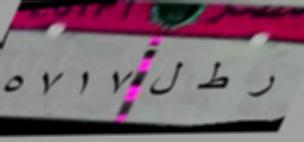1: (76, 66, 94, 99)
5: (0, 70, 26, 98)
7: (109, 64, 134, 97), (40, 68, 64, 100)
Taa: (196, 59, 231, 96)
laam: (150, 57, 182, 101)
raa: (243, 71, 278, 107)
